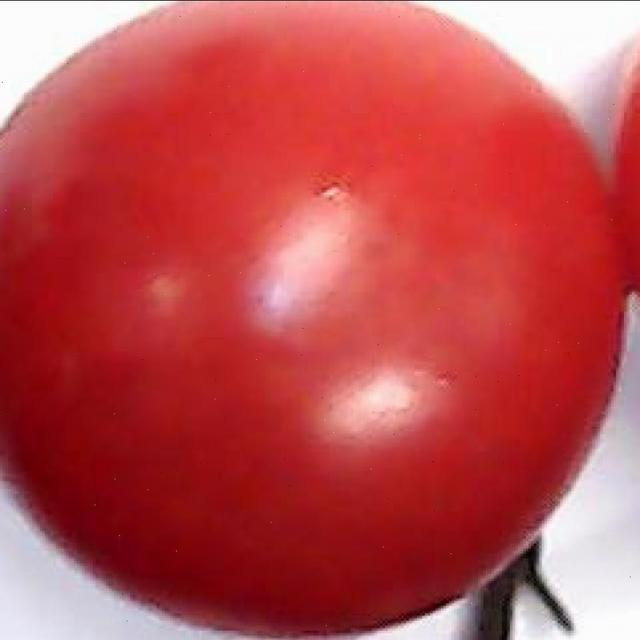Healthy Fruit: (0, 0, 409, 424)
